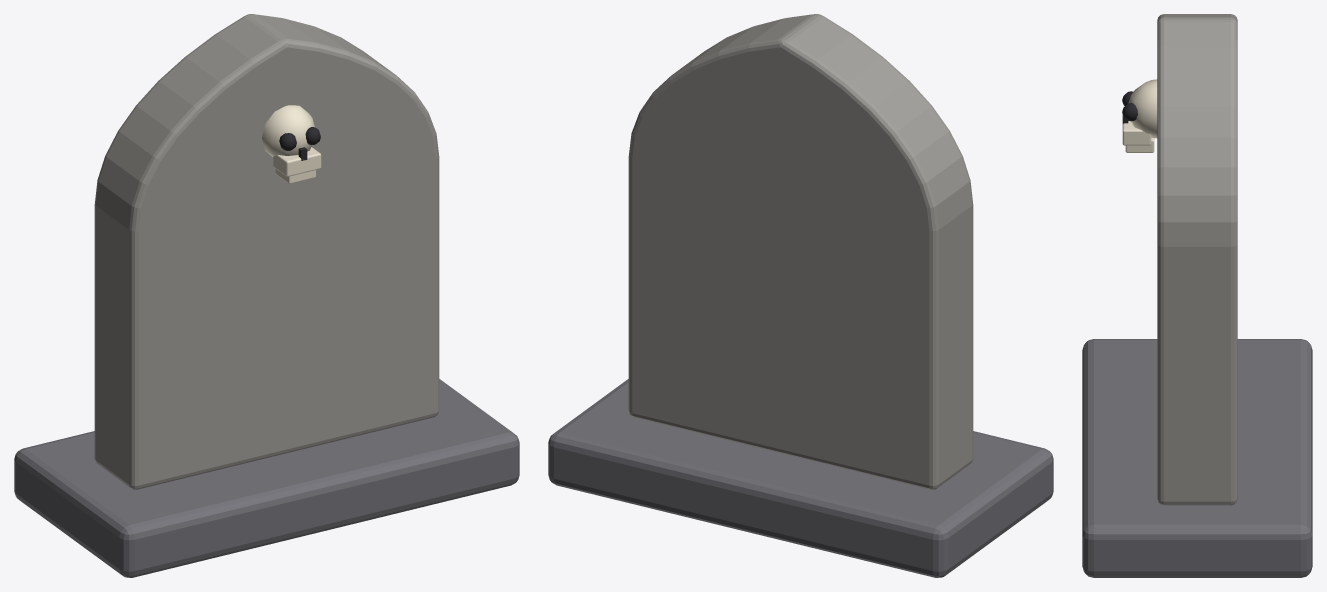
The model's file is tombstone_skull_stone.glb.
3 views of the same model, side by side, from view 1: azimuth 30°, elevation 25°; view 2: azimuth 150°, elevation 25°; view 3: azimuth 270°, elevation 25° (orthographic).
Parts seen in each view (by area): view 1: GD_tombstone_skull_stone__m1, GD_tombstone_skull_stone__m0, GD_tombstone_skull_stone__m2; view 2: GD_tombstone_skull_stone__m1, GD_tombstone_skull_stone__m0; view 3: GD_tombstone_skull_stone__m0, GD_tombstone_skull_stone__m1, GD_tombstone_skull_stone__m2, GD_tombstone_skull_stone__m3.
Boxes of the visible parts, x1,y1,x2,y2 form: GD_tombstone_skull_stone__m1: (94,14,439,489); GD_tombstone_skull_stone__m0: (14,379,519,577); GD_tombstone_skull_stone__m2: (262,105,321,183); GD_tombstone_skull_stone__m1: (628,14,973,489); GD_tombstone_skull_stone__m0: (548,379,1053,577); GD_tombstone_skull_stone__m0: (1082,339,1312,577); GD_tombstone_skull_stone__m1: (1157,14,1237,505); GD_tombstone_skull_stone__m2: (1122,79,1157,152); GD_tombstone_skull_stone__m3: (1122,91,1137,123).
Bounding box in the file's own units: 0.8 × 0.8926 × 0.4.
